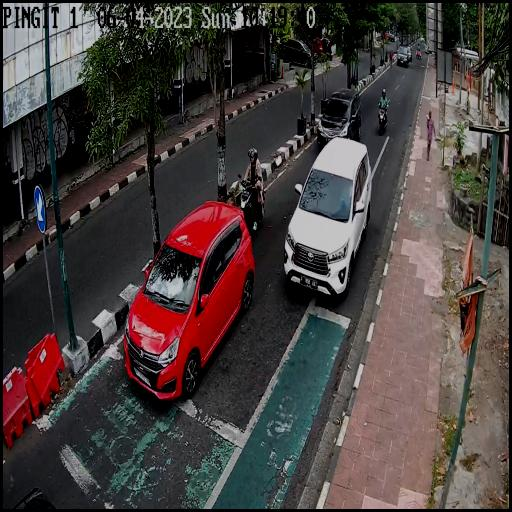mobil: (120, 197, 255, 406), (283, 138, 372, 296), (318, 87, 362, 151), (396, 44, 410, 69)
motor: (236, 174, 266, 234), (376, 100, 390, 136)
